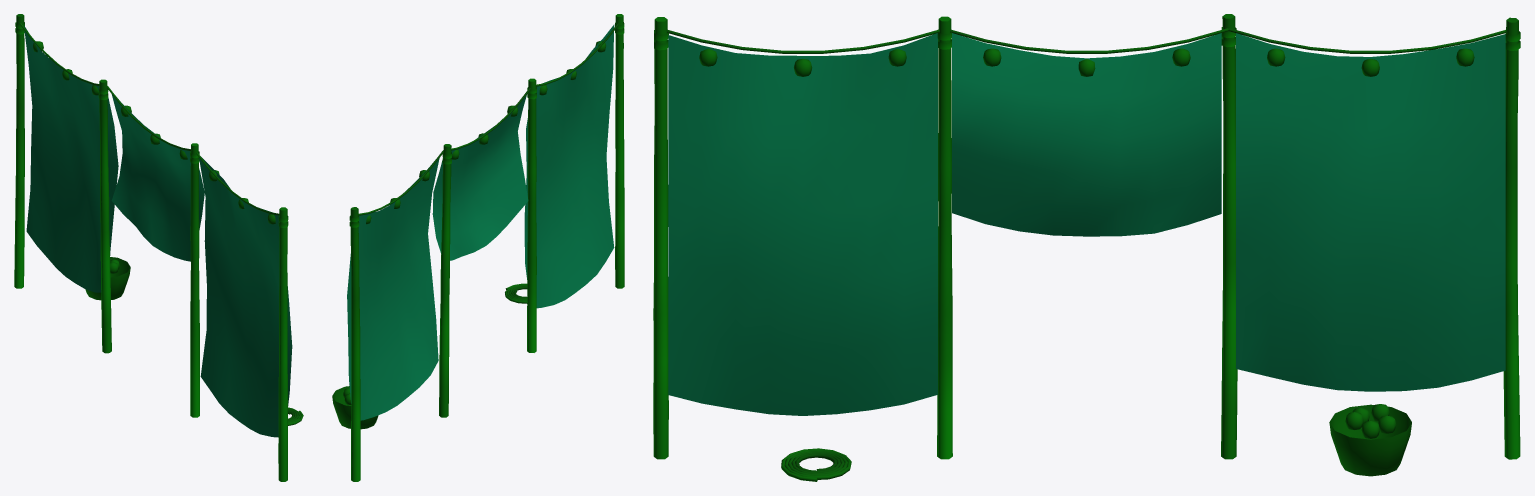
File: net_frame.glb
3 renders of one model, left to right at view 1: azimuth 30°, elevation 25°; view 2: azimuth 150°, elevation 25°; view 3: azimuth 270°, elevation 25°, orthographic. The views are drawn at different scales.
Parts seen in each view (by area): view 1: net_frame; view 2: net_frame; view 3: net_frame.
Part boxes in pixels (box(x1,y1,x2,y2)): net_frame: box(14, 14, 303, 481); net_frame: box(332, 14, 624, 481); net_frame: box(653, 14, 1520, 481).
Size of what is drawn, in the model's own units: 0.967 by 3.4 by 6.11.
